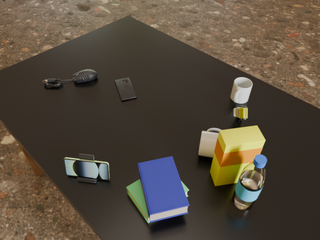book: (138, 156, 189, 222), (126, 179, 189, 223)
bottle: (232, 155, 267, 210)
box: (210, 126, 265, 186)
cup: (199, 128, 220, 158), (231, 77, 252, 103)
mouse: (71, 69, 97, 83)
phone: (64, 158, 110, 180), (115, 78, 137, 101)
toy_car: (234, 106, 247, 120)
